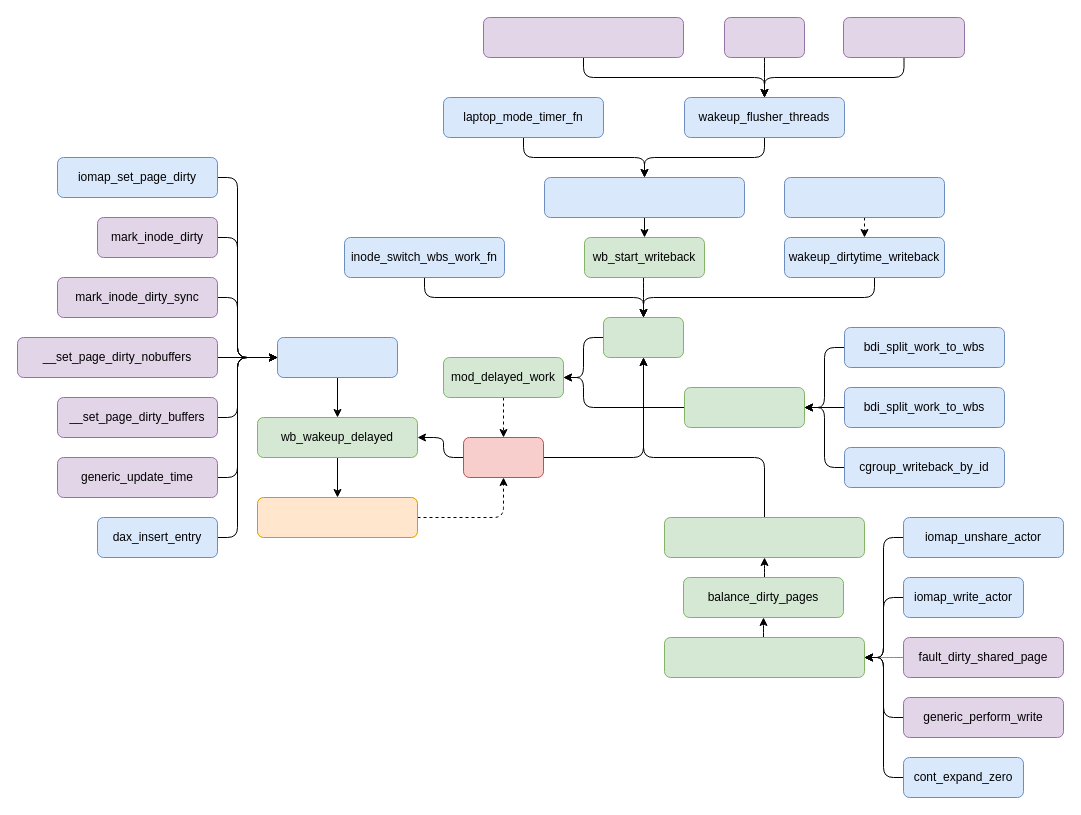
This 1081x815 diagram has some shape labels left out. Here are the shapes that lost their labels. From the top down, the box of each, then its label:
(482, 16, 684, 58): dirty_writeback_centisecs_handler
(724, 16, 804, 58): ksys_sync
(842, 16, 964, 58): shrink_inactive_list
(544, 176, 744, 218): __wakeup_flusher_threads_bdi
(784, 176, 944, 218): dirtytime_interval_handler
(276, 336, 398, 378): __mark_inode_dirty
(602, 316, 684, 358): wb_wakeup
(684, 386, 804, 428): wb_queue_work
(462, 436, 544, 478): wb_workfn
(256, 496, 418, 538): queue_delayed_work
(664, 516, 864, 558): wb_start_background_writeback
(664, 636, 864, 678): balance_dirty_pages_ratelimited
